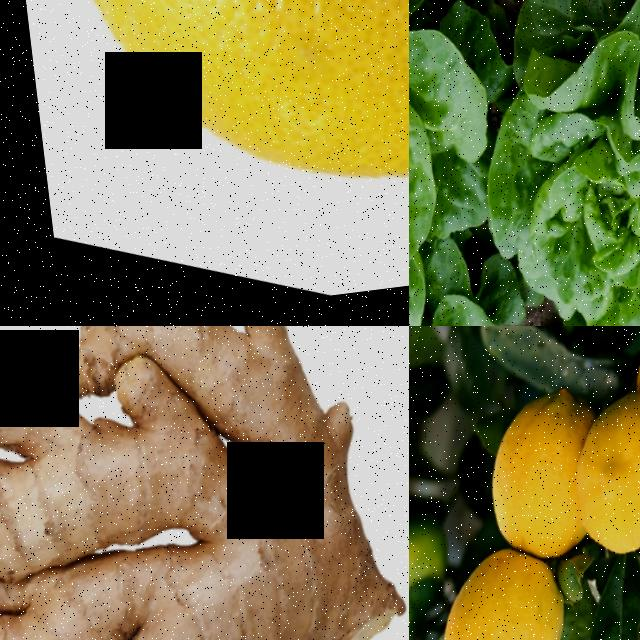ginger: (0, 326, 409, 640)
lemon: (0, 0, 409, 306), (451, 375, 604, 578), (537, 381, 640, 587), (409, 534, 582, 640), (409, 495, 453, 597)
lettuce: (424, 0, 640, 326), (409, 0, 572, 326)
